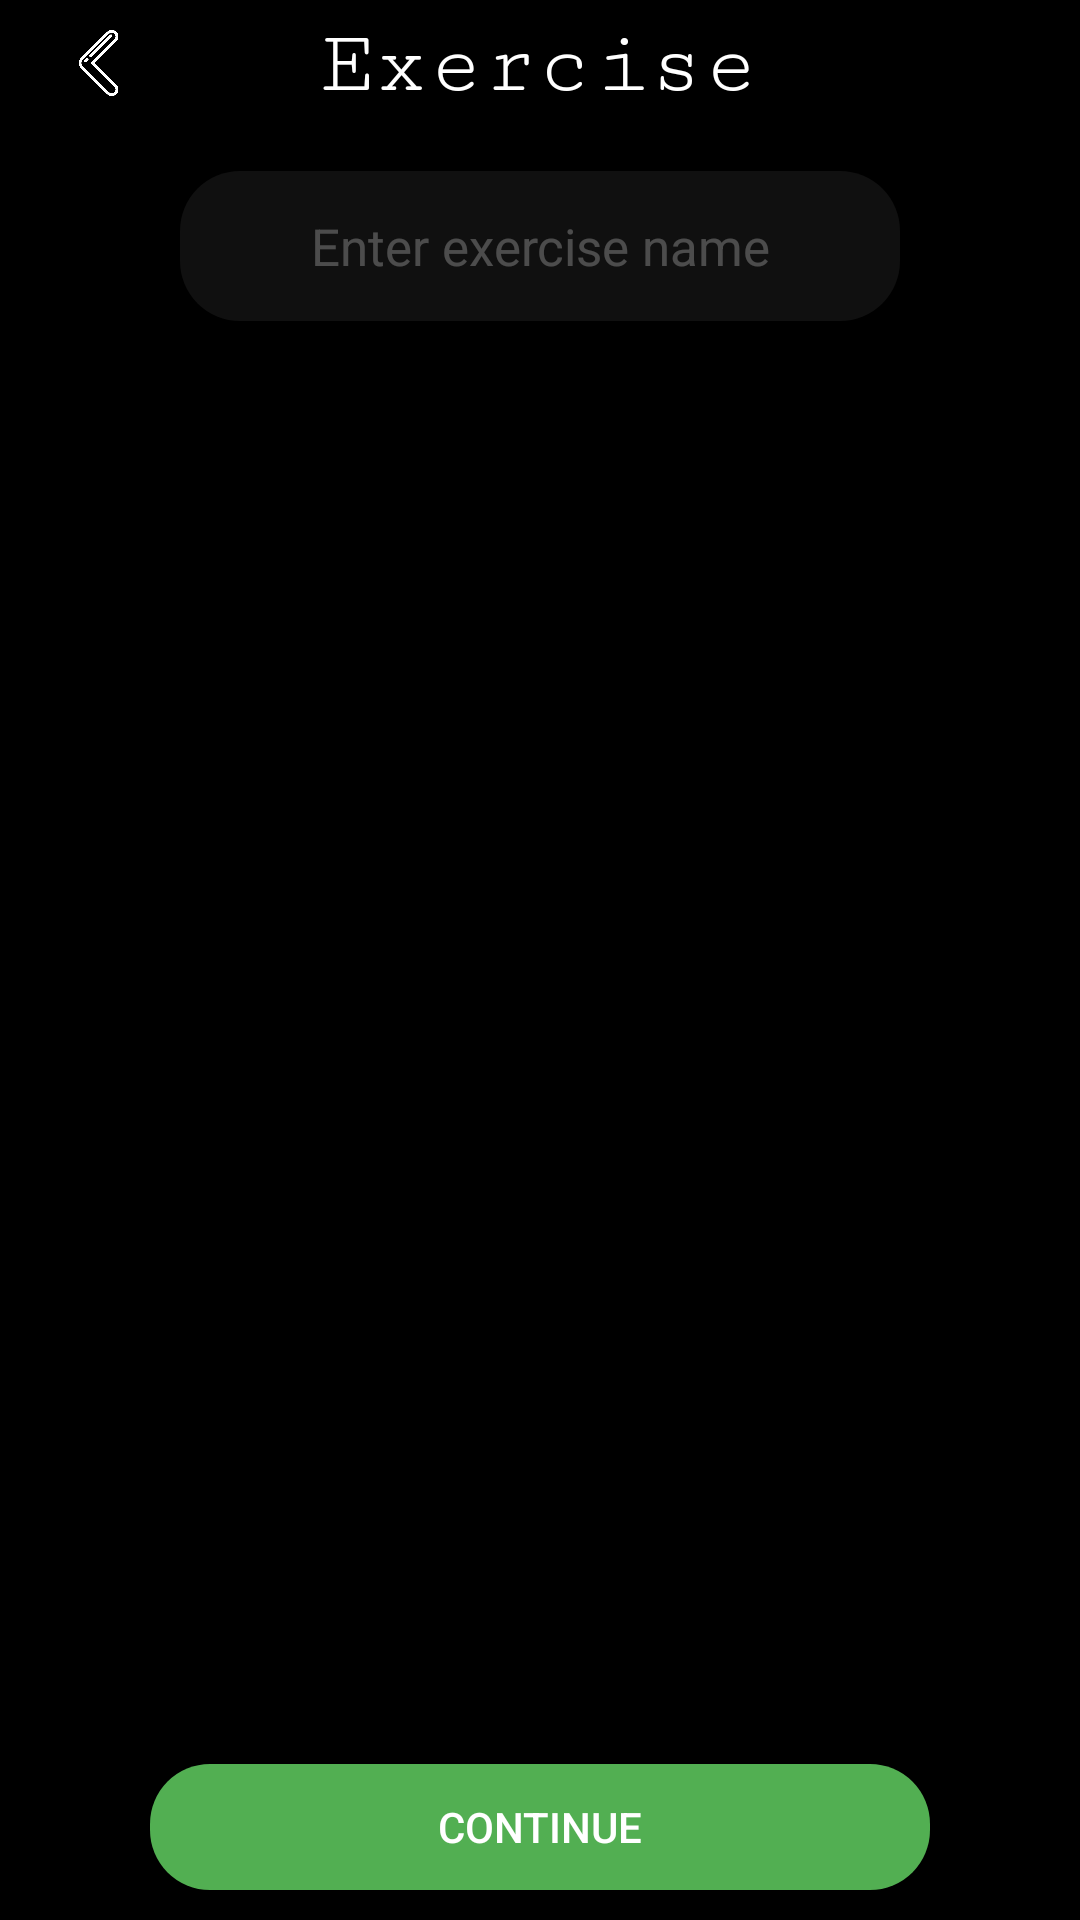

Icons on this 1080px x 1920px Android screen, each with its box as region(x1, y1, x2, y2):
backward: region(79, 30, 118, 96)
